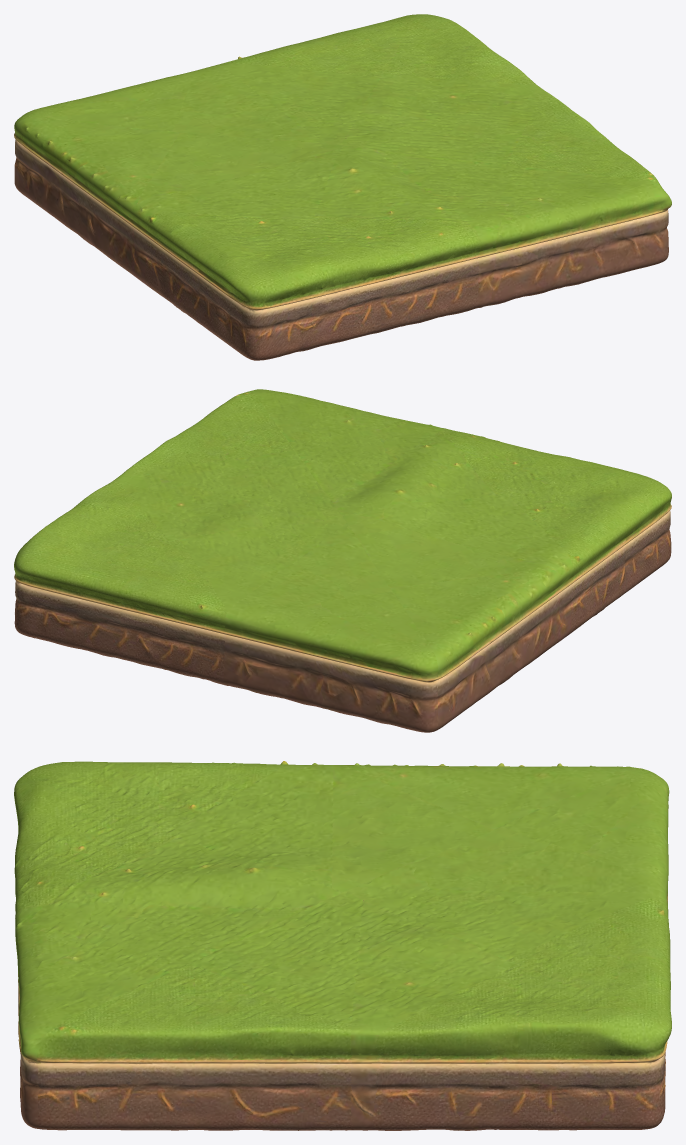
File: lawn.glb
The picture shows the model from 3 angles, top to bottom: view 1: azimuth 30°, elevation 25°; view 2: azimuth 150°, elevation 25°; view 3: azimuth 270°, elevation 25°; orthographic projection. The views are drawn at different scales.
Parts seen in each view (by area): view 1: tripo_node_7614133a-0e46-4c32-9cc5-413708fa4384; view 2: tripo_node_7614133a-0e46-4c32-9cc5-413708fa4384; view 3: tripo_node_7614133a-0e46-4c32-9cc5-413708fa4384.
Part boxes in pixels (x1,y1,x2,y2): tripo_node_7614133a-0e46-4c32-9cc5-413708fa4384: (14, 14, 671, 360); tripo_node_7614133a-0e46-4c32-9cc5-413708fa4384: (14, 389, 671, 732); tripo_node_7614133a-0e46-4c32-9cc5-413708fa4384: (14, 761, 671, 1130).
Bounding box in the file's own units: 0.5029 × 0.0999 × 0.5031.
1 material, 1 textured.
